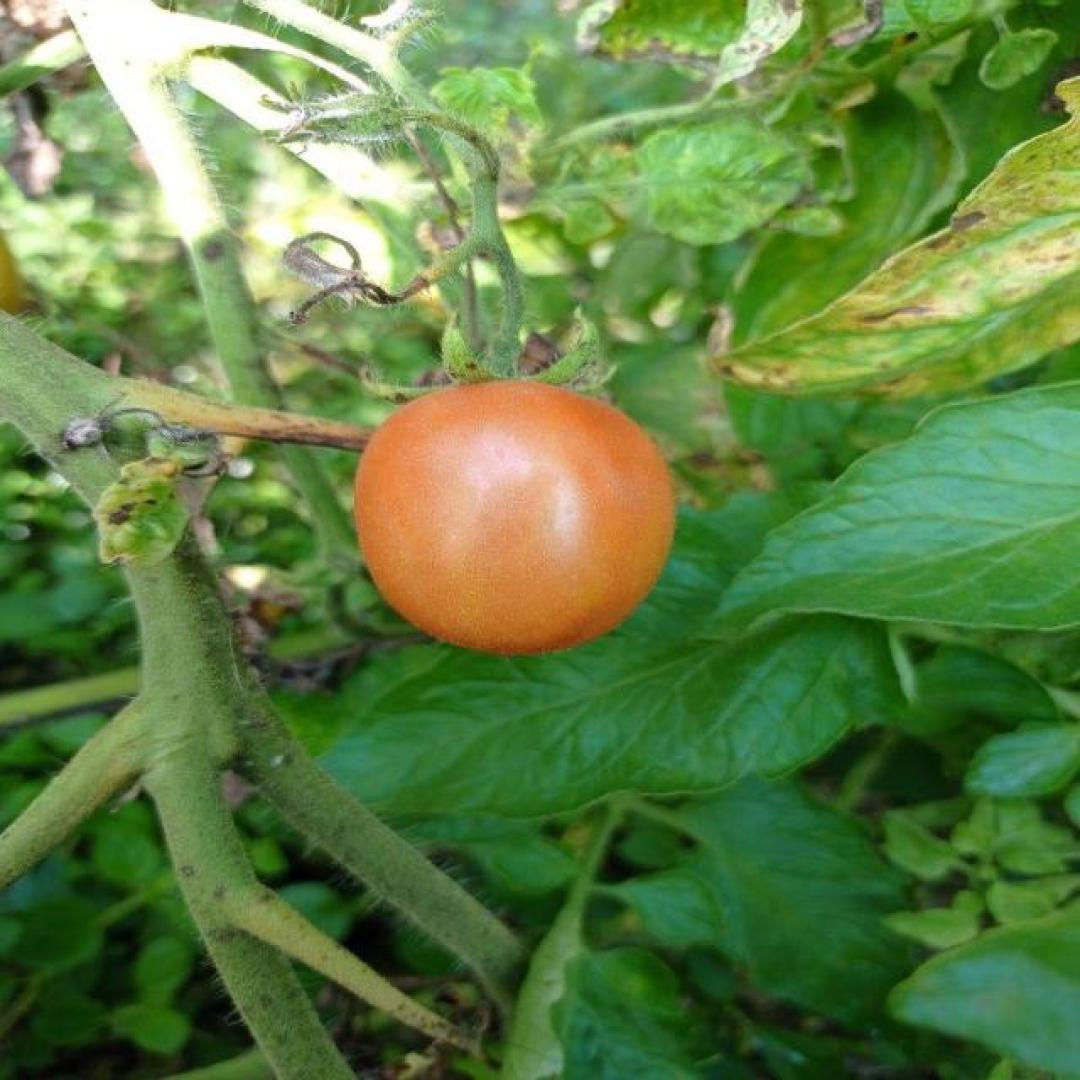setengah_matang: (349, 374, 680, 654)
